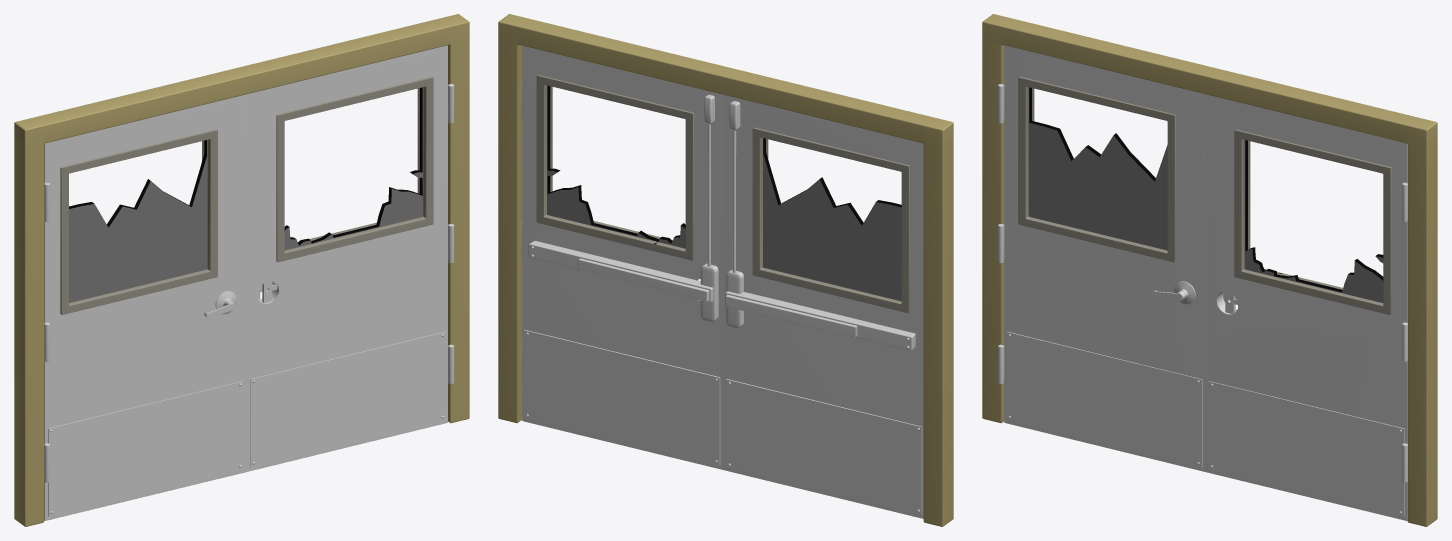
The model's file is MS Broken Double Door.fbx.
3 views of the same model, side by side, from view 1: azimuth 30°, elevation 25°; view 2: azimuth 150°, elevation 25°; view 3: azimuth 330°, elevation 25° (orthographic).
Visible parts, largest first — view 1: Door (×2), Door Frame, Right Window, Left Door Panel Close, Right Door Panel Close, Left Window; view 2: Door (×2), Door Frame, Right Window, Left Door Panel Open, Right Door Panel Open, Left Window, Box (×4), Left Push Handle, Right Push Handle, Cylinder; view 3: Door (×2), Door Frame, Right Window, Right Door Panel Close, Left Door Panel Close, Left Window.
Boxes of the visible parts, x1=… form: Door (×2): x1=44, y1=45, x2=447, y2=520; Door Frame: x1=14, y1=14, x2=469, y2=526; Right Window: x1=60, y1=129, x2=217, y2=314; Left Door Panel Close: x1=250, y1=331, x2=446, y2=466; Right Door Panel Close: x1=48, y1=381, x2=243, y2=516; Left Window: x1=276, y1=76, x2=433, y2=262; Door (×2): x1=522, y1=46, x2=923, y2=518; Door Frame: x1=498, y1=14, x2=953, y2=526; Right Window: x1=752, y1=127, x2=909, y2=313; Left Door Panel Open: x1=524, y1=329, x2=720, y2=465; Right Door Panel Open: x1=726, y1=379, x2=922, y2=514; Left Window: x1=536, y1=75, x2=694, y2=260; Box (×4): x1=528, y1=241, x2=915, y2=350; Left Push Handle: x1=700, y1=263, x2=718, y2=322; Right Push Handle: x1=726, y1=270, x2=743, y2=328; Cylinder: x1=707, y1=124, x2=710, y2=266; Door (×2): x1=1004, y1=45, x2=1407, y2=520; Door Frame: x1=982, y1=14, x2=1437, y2=526; Right Window: x1=1018, y1=76, x2=1175, y2=262; Right Door Panel Close: x1=1006, y1=331, x2=1202, y2=467; Left Door Panel Close: x1=1209, y1=381, x2=1404, y2=516; Left Window: x1=1234, y1=129, x2=1391, y2=314.
Bounding box in the file's own units: 114 × 96.97 × 9.04.
